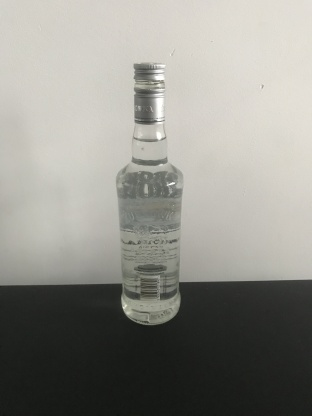nakretka: (132, 61, 167, 125)
